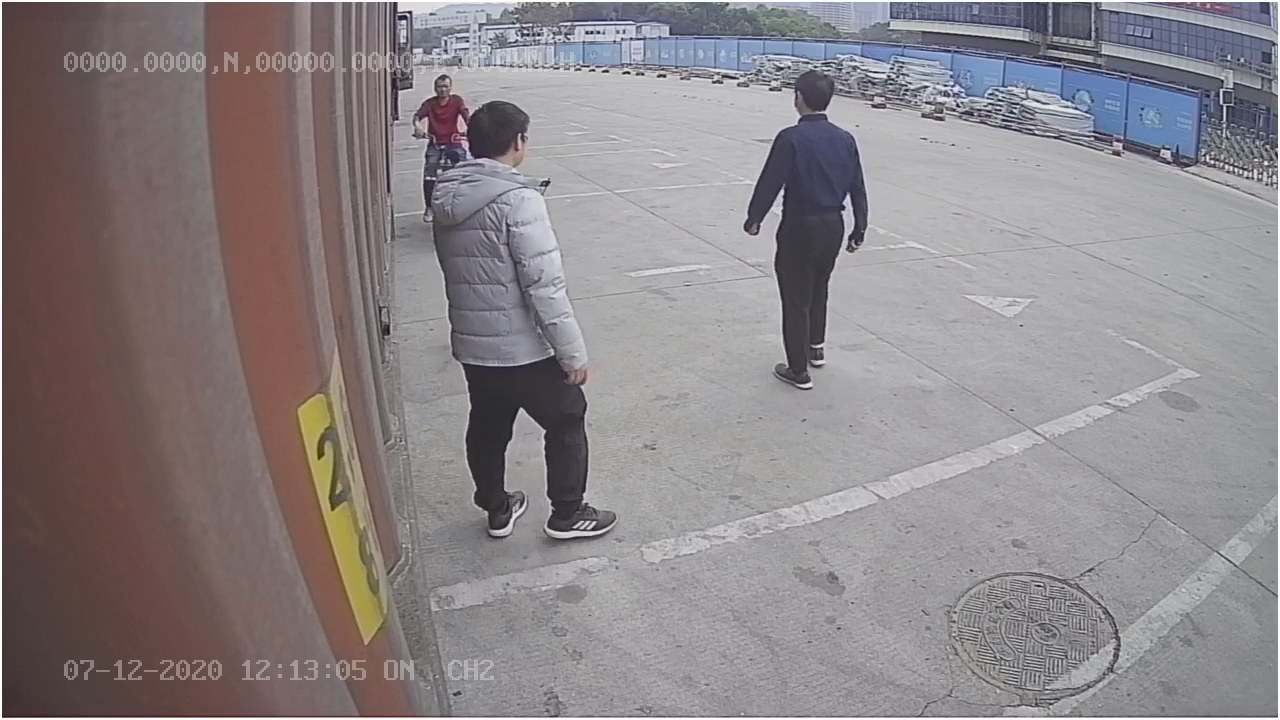person: (743, 71, 868, 391)
